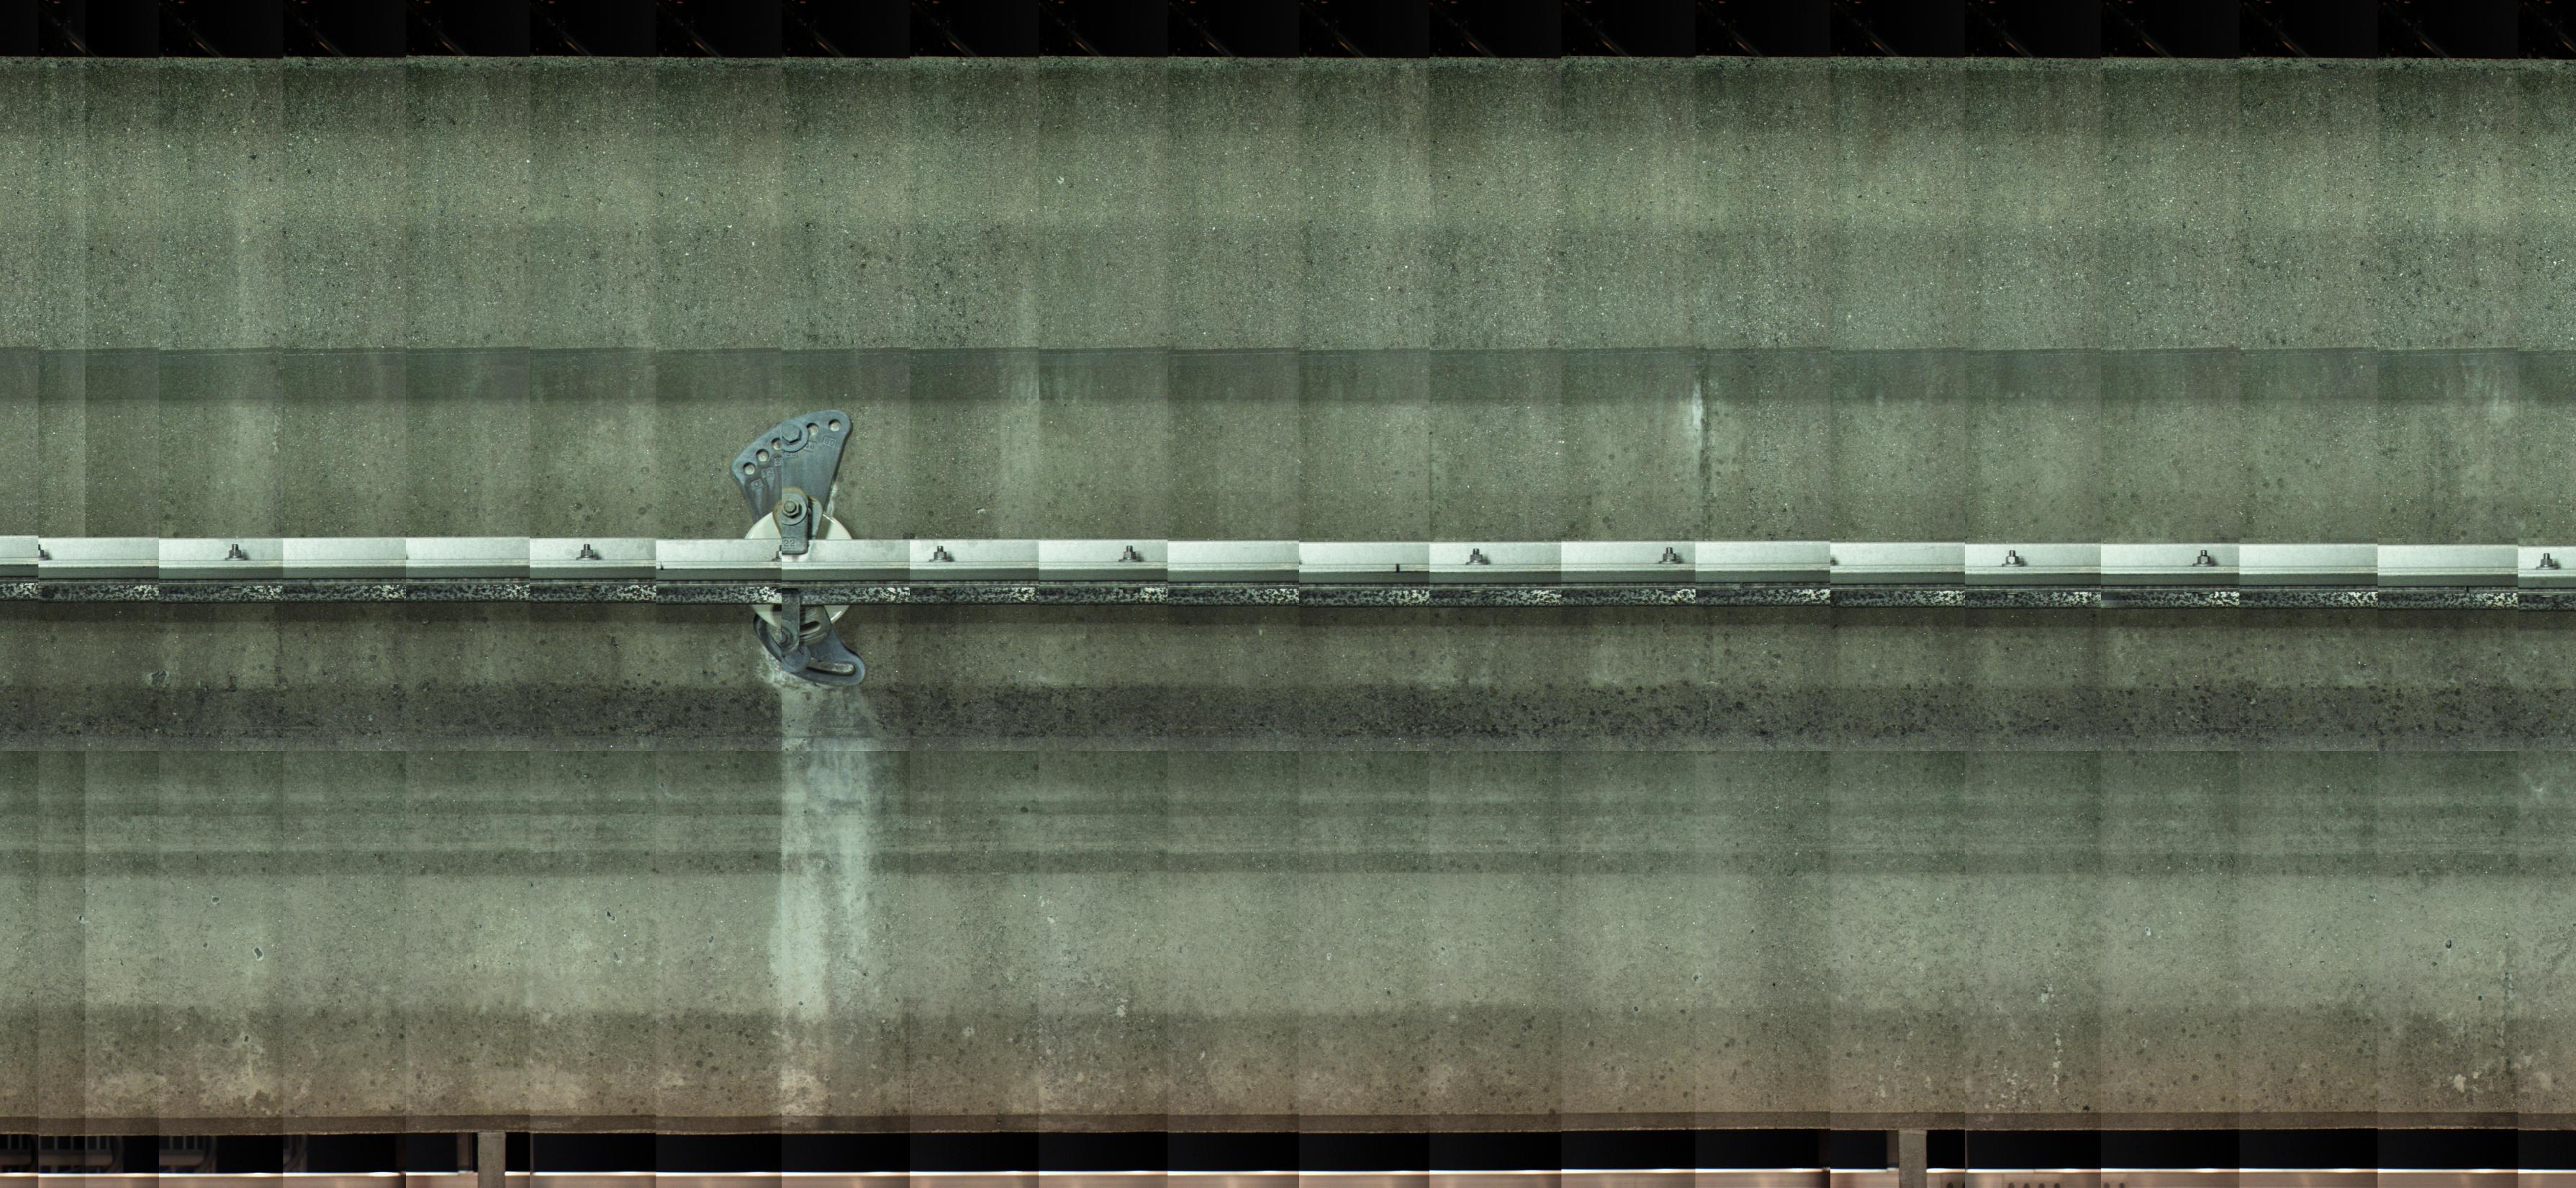concrete: (7, 605, 2576, 1132), (0, 54, 2574, 534)
